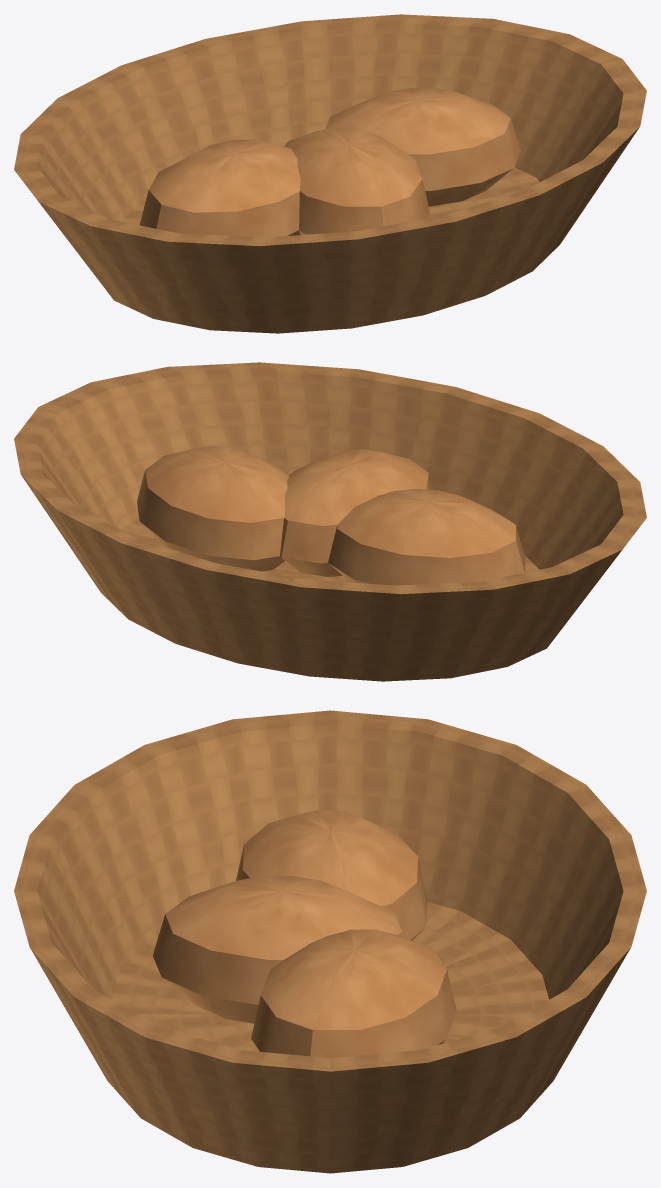
The model's file is SM_Bread_Basket.fbx.
The picture shows the model from 3 angles, top to bottom: view 1: azimuth 30°, elevation 25°; view 2: azimuth 150°, elevation 25°; view 3: azimuth 270°, elevation 25°; orthographic projection. The views are drawn at different scales.
Parts seen in each view (by area): view 1: SM_Bread_Basket; view 2: SM_Bread_Basket; view 3: SM_Bread_Basket.
Boxes of the visible parts, x1,y1,x2,y2 form: SM_Bread_Basket: (14, 14, 646, 333); SM_Bread_Basket: (14, 362, 646, 681); SM_Bread_Basket: (14, 710, 646, 1173).
Size of the model in its own units: 0.3645 by 0.07 by 0.27.
Materials: 2 (2 with a texture image).
